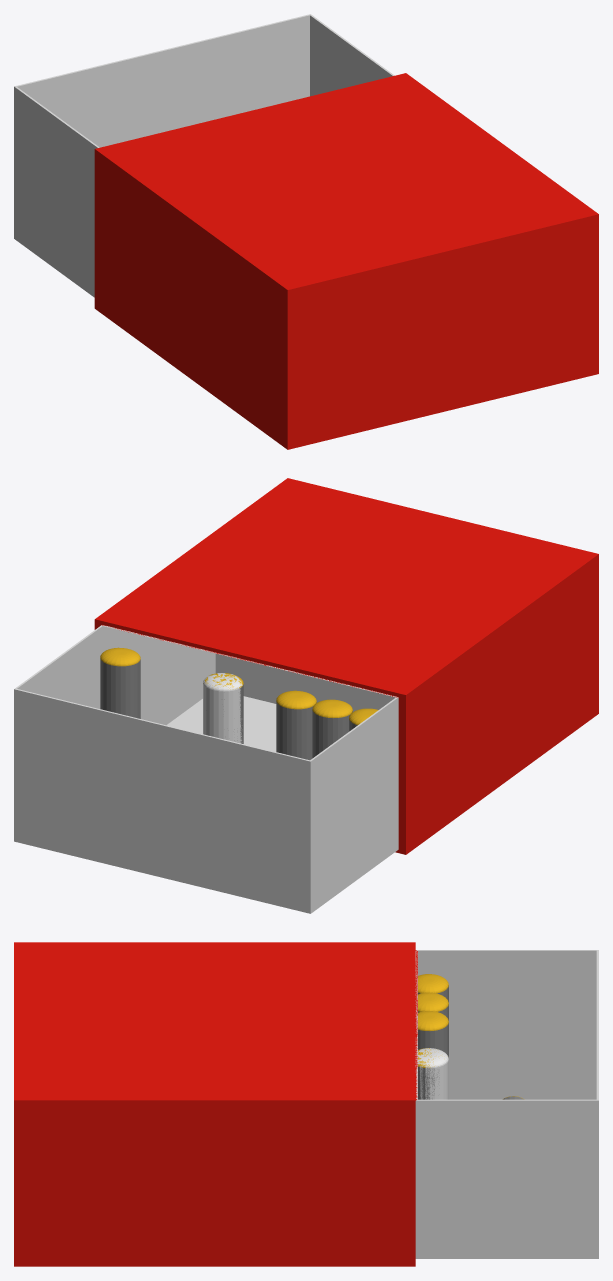
The model's file is HandgunAmmo.fbx.
3 renders of one model, top to bottom at view 1: azimuth 30°, elevation 25°; view 2: azimuth 150°, elevation 25°; view 3: azimuth 270°, elevation 25°, orthographic. The views are drawn at different scales.
Visible parts, largest first — view 1: Cube.009; view 2: Cube.009; view 3: Cube.009.
Boxes of the visible parts, bbox=[...] form: Cube.009: bbox=[14, 14, 598, 449]; Cube.009: bbox=[14, 478, 598, 913]; Cube.009: bbox=[14, 942, 598, 1266].
Bounding box in the file's own units: 125 × 61.1 × 195.
